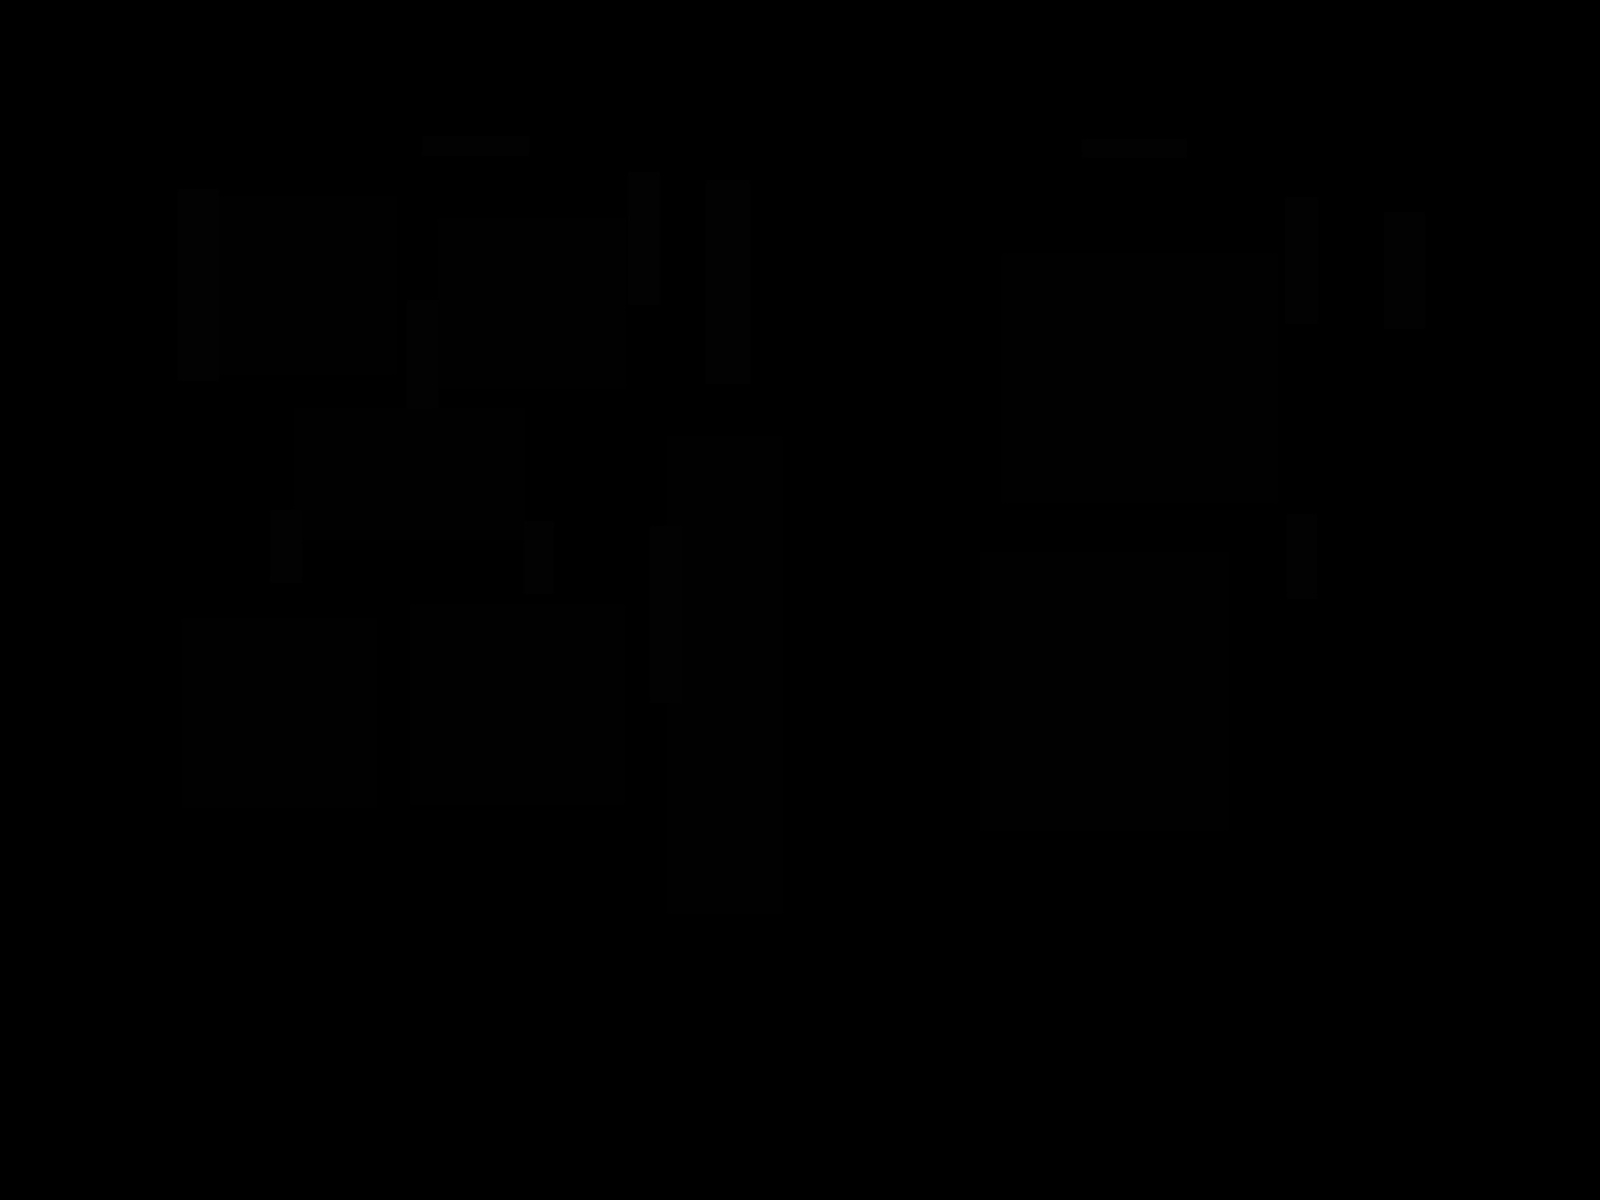1_overall: (77, 59, 1524, 1005)
3_typography: (706, 180, 750, 384), (178, 189, 219, 381), (650, 526, 682, 703), (1385, 212, 1425, 329), (627, 171, 660, 305), (1285, 197, 1318, 324), (407, 300, 438, 408), (1288, 514, 1317, 599), (270, 511, 302, 584), (524, 521, 554, 594), (422, 136, 529, 156), (1082, 139, 1187, 158)
4_illustration: (980, 552, 1230, 831), (1002, 253, 1277, 503), (666, 436, 784, 914), (409, 604, 625, 805), (181, 618, 377, 808), (438, 218, 626, 389), (219, 195, 397, 376), (294, 408, 525, 539)
